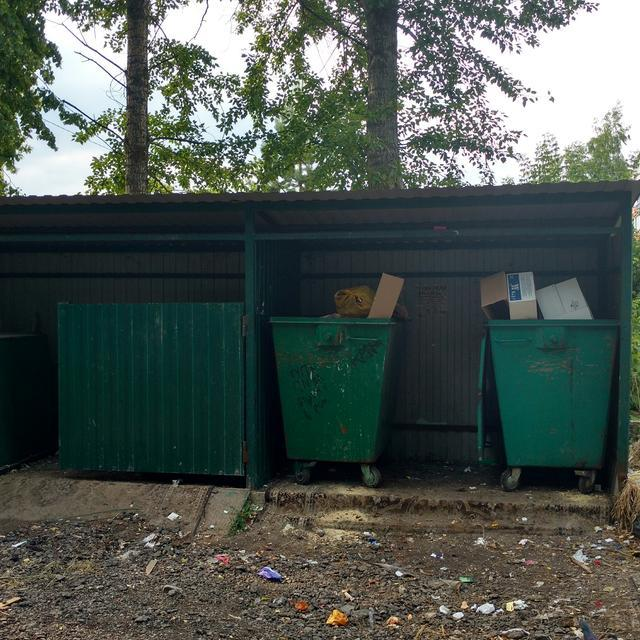Trash_Can_Full: (267, 273, 408, 464), (487, 271, 617, 469)
